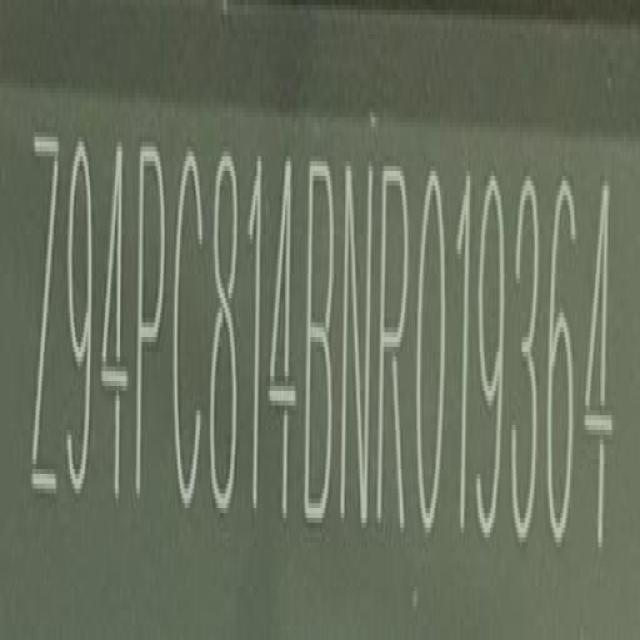0: (414, 164, 450, 544)
1: (451, 169, 474, 547), (248, 148, 266, 529)
3: (513, 172, 544, 553)
4: (584, 177, 621, 558), (99, 132, 133, 517), (270, 147, 302, 528)
6: (544, 172, 578, 555)
8: (208, 147, 242, 518)
9: (474, 162, 508, 548), (64, 134, 95, 512)
B: (304, 149, 340, 531)
C: (172, 136, 206, 523)
N: (342, 152, 378, 534)
P: (136, 132, 170, 520)
R: (377, 158, 414, 540)
Z: (32, 130, 64, 518)
